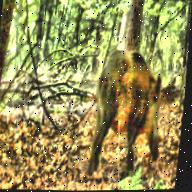boar: (87, 46, 171, 175)
